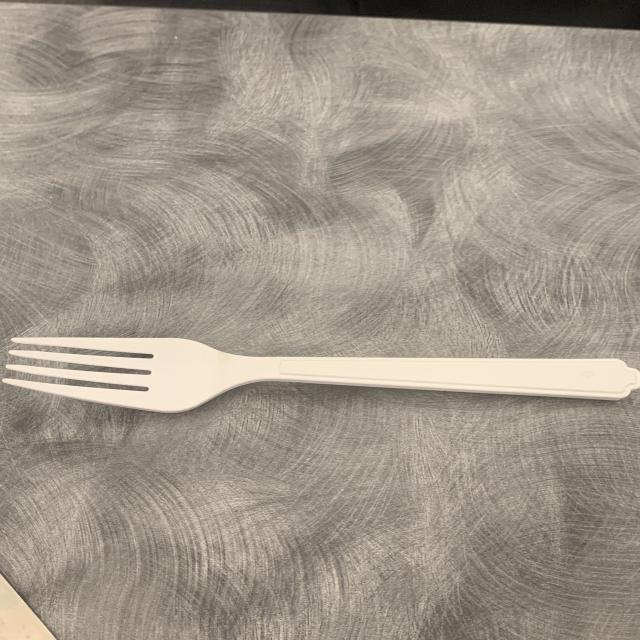fork: (7, 314, 640, 446)
